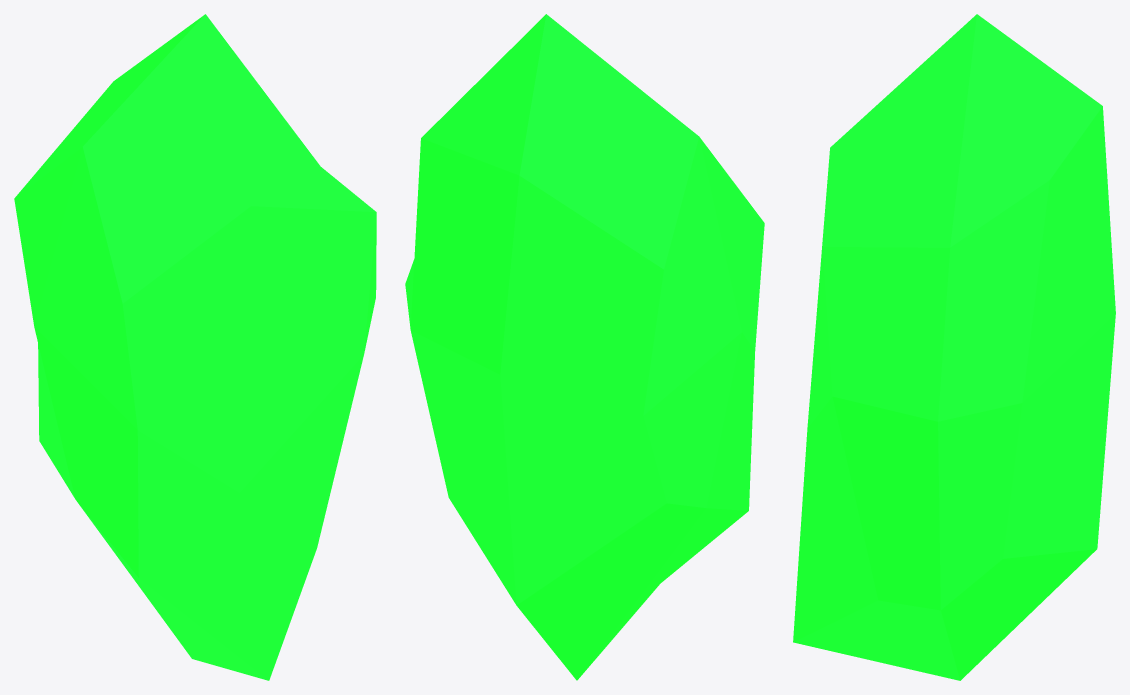
Rendered from crystal_3.glb.
3 renders of one model, left to right at view 1: azimuth 30°, elevation 25°; view 2: azimuth 150°, elevation 25°; view 3: azimuth 270°, elevation 25°, orthographic. The views are drawn at different scales.
Parts seen in each view (by area): view 1: crystal_3; view 2: crystal_3; view 3: crystal_3.
Boxes of the visible parts, x1,y1,x2,y2 form: crystal_3: (14,14,376,680); crystal_3: (405,14,764,680); crystal_3: (793,14,1115,680).
Size of the model in its own units: 8.39 by 15.36 by 6.63.
